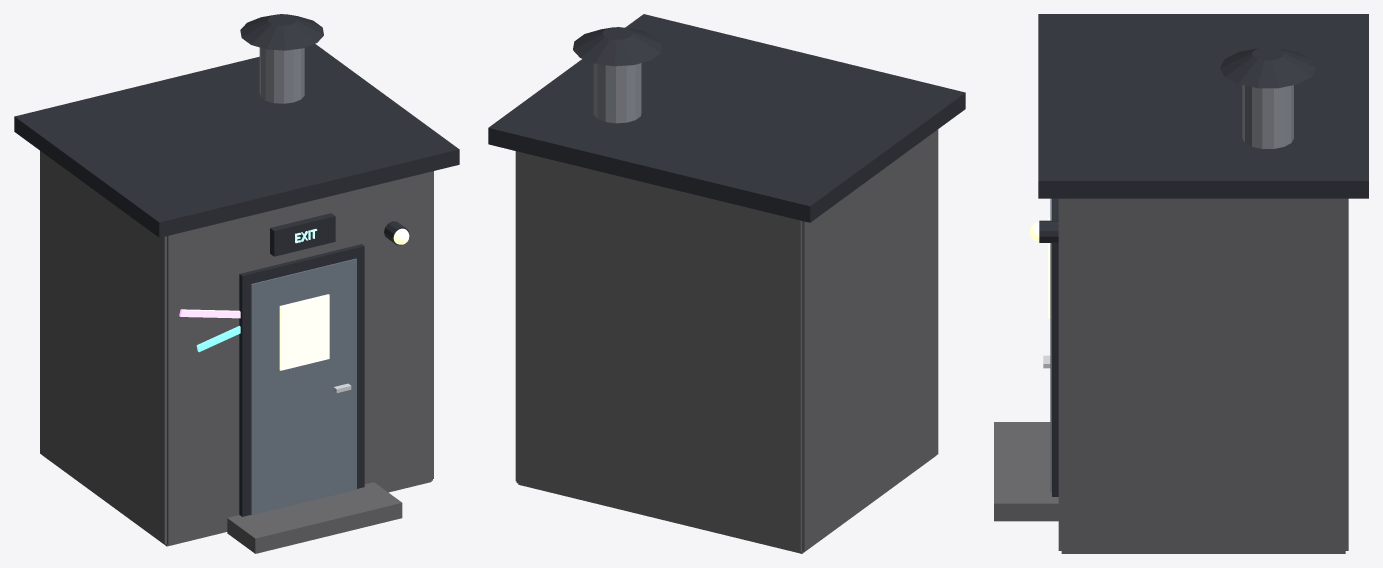
The model's file is roof_stairs.glb.
3 views of the same model, side by side, from view 1: azimuth 30°, elevation 25°; view 2: azimuth 150°, elevation 25°; view 3: azimuth 270°, elevation 25° (orthographic). The views are drawn at different scales.
Parts seen in each view (by area): view 1: Stair hut, Roof slab, Door, Door window, Roof vent; view 2: Stair hut, Roof slab, Roof vent; view 3: Stair hut, Roof slab, Roof vent, Door.
Part boxes in pixels (left/top/right/bottom): Stair hut: left=40, top=151, right=433, bottom=553; Roof slab: left=14, top=14, right=459, bottom=516; Door: left=250, top=258, right=356, bottom=515; Door window: left=279, top=228, right=409, bottom=370; Roof vent: left=259, top=47, right=304, bottom=103; Stair hut: left=515, top=129, right=938, bottom=553; Roof slab: left=488, top=14, right=965, bottom=222; Roof vent: left=593, top=63, right=641, bottom=123; Stair hut: left=994, top=198, right=1348, bottom=553; Roof slab: left=1038, top=14, right=1368, bottom=496; Roof vent: left=1242, top=85, right=1293, bottom=148; Door: left=1050, top=198, right=1051, bottom=492.
Size of the model in its own units: 2.45 by 3.2 by 2.32.
